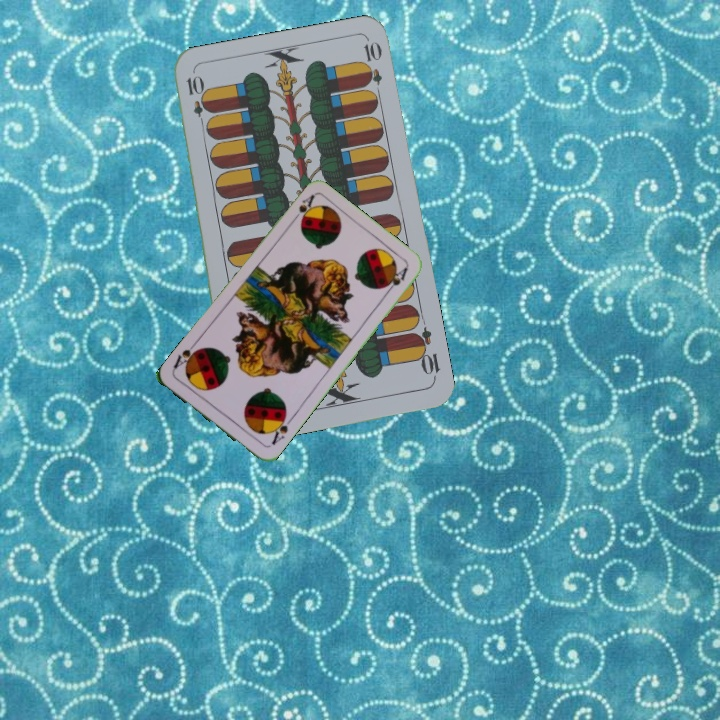E10: (409, 324, 443, 383), (182, 71, 209, 131)
SA: (267, 410, 295, 448), (287, 191, 317, 226)
